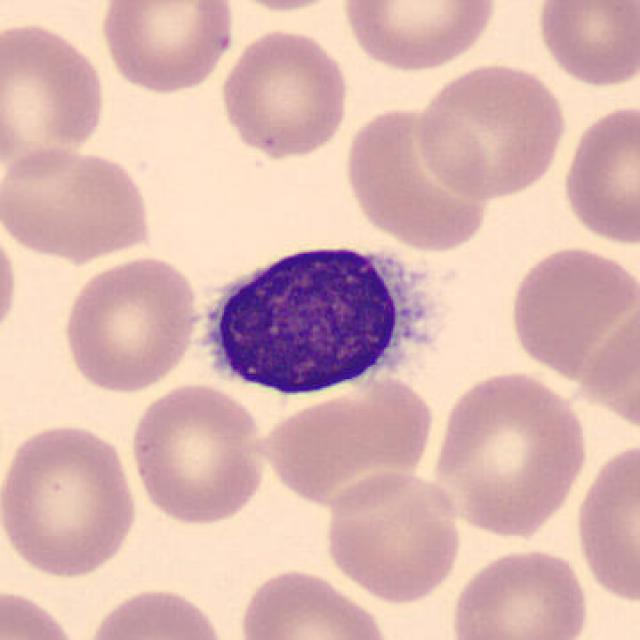Lymphocyte: (181, 228, 450, 408)
RBC: (428, 366, 592, 540), (258, 366, 436, 509), (340, 100, 494, 254), (0, 418, 142, 582), (410, 58, 570, 201), (126, 381, 268, 527), (59, 252, 202, 395), (320, 467, 464, 605), (215, 25, 352, 162), (0, 144, 156, 262), (0, 18, 110, 182), (505, 242, 636, 374), (446, 543, 594, 640), (96, 0, 238, 95), (233, 564, 398, 640), (570, 435, 640, 608), (339, 0, 502, 74), (558, 99, 638, 248), (532, 0, 638, 90), (80, 583, 231, 640), (0, 585, 85, 639), (0, 216, 21, 347), (214, 0, 350, 14)
